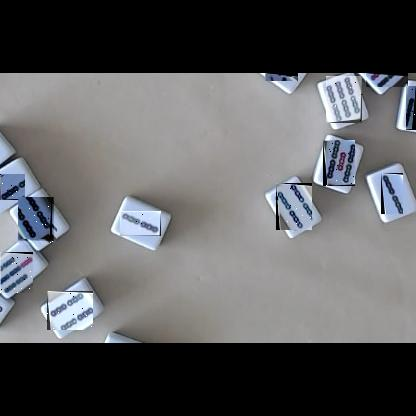1s: (265, 73, 298, 81)
2s: (120, 211, 161, 236), (381, 173, 403, 214), (0, 174, 25, 200)
4s: (47, 291, 93, 330), (19, 198, 57, 244), (276, 183, 312, 230)
5s: (323, 140, 355, 186)
6s: (326, 76, 362, 123)
7s: (0, 252, 33, 293), (406, 86, 416, 130)
9s: (365, 73, 408, 87)
